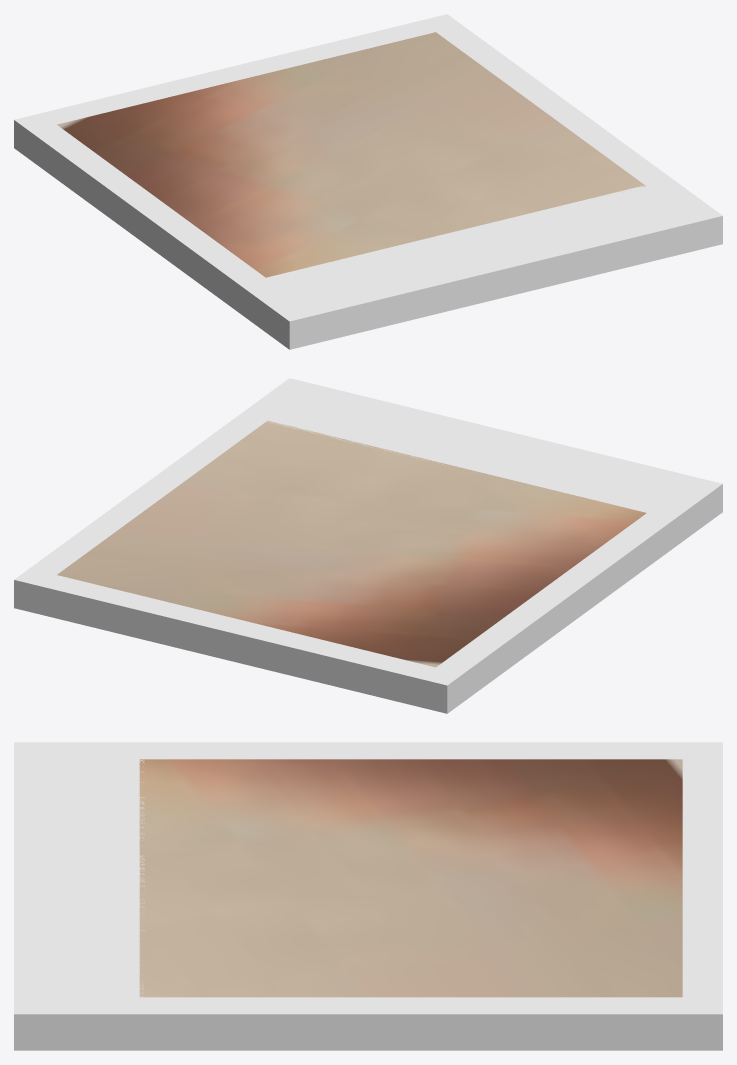
Rendered from polaroid.obj.
3 views of the same model, one above another, from view 1: azimuth 30°, elevation 25°; view 2: azimuth 150°, elevation 25°; view 3: azimuth 270°, elevation 25° (orthographic). The views are drawn at different scales.
Parts seen in each view (by area): view 1: group1350158991, group1849549558, group1324783098, group565728600, group1534948405; view 2: group1350158991, group1849549558, group1534948405, group1324783098, group565728600; view 3: group1350158991, group1849549558, group565728600, group1324783098, group1534948405.
Boxes of the visible parts, box(x1,y1,x2,y2) form: group1350158991: box(57, 32, 645, 277); group1849549558: box(239, 178, 722, 349); group1324783098: box(14, 113, 265, 313); group565728600: box(420, 14, 671, 184); group1534948405: box(41, 21, 435, 124); group1350158991: box(57, 420, 646, 667); group1849549558: box(241, 378, 722, 547); group1534948405: box(41, 575, 435, 706); group1324783098: box(420, 513, 673, 713); group565728600: box(14, 414, 267, 614); group1350158991: box(139, 759, 682, 997); group1849549558: box(14, 742, 144, 1050); group565728600: box(139, 997, 722, 1050); group1324783098: box(139, 742, 722, 759); group1534948405: box(682, 759, 722, 997).
Bounding box in the file's own units: 1.28 × 0.08 × 1.41.
